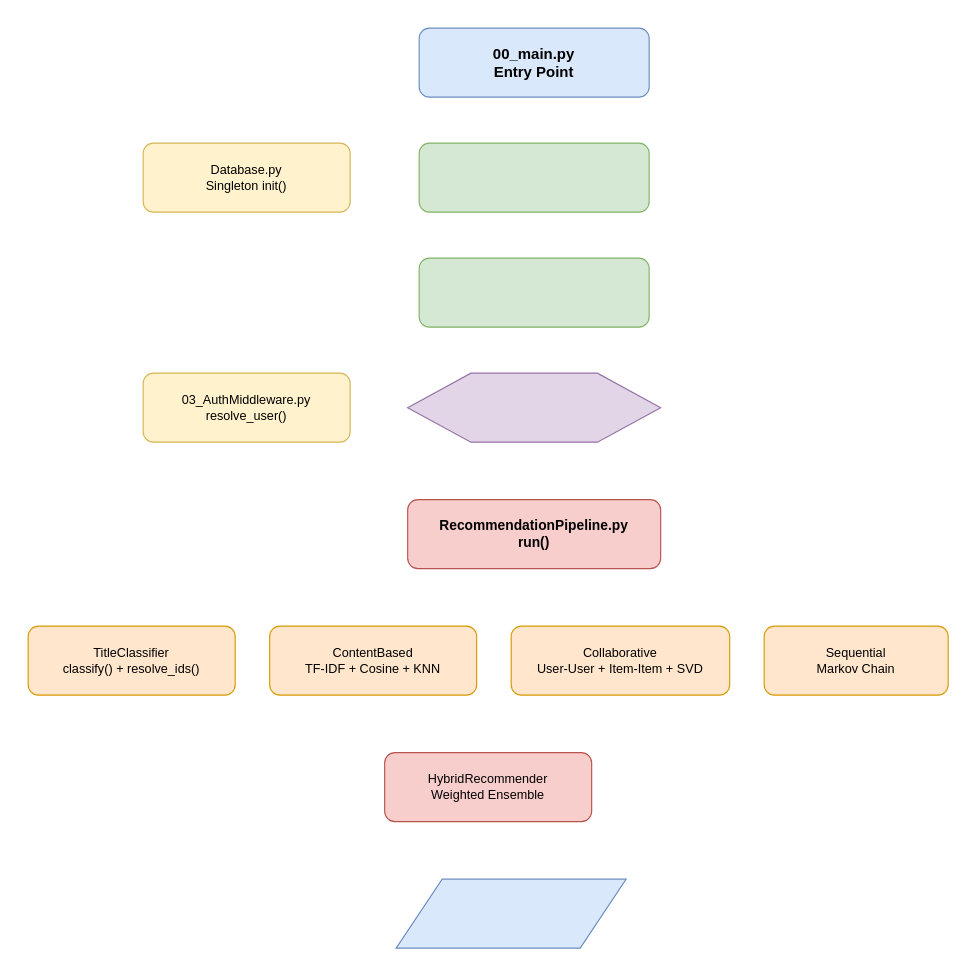
This 968x968 diagram has some shape labels left out. Each missing label, with the centre of its shape:
"01_AppFactory.py create_app()" belongs at (x=533, y=177).
"02_Routes.py register_routes()" belongs at (x=533, y=292).
"JSON Response → Frontend" belongs at (x=510, y=913).
"POST /api/recommend" belongs at (x=534, y=407).
